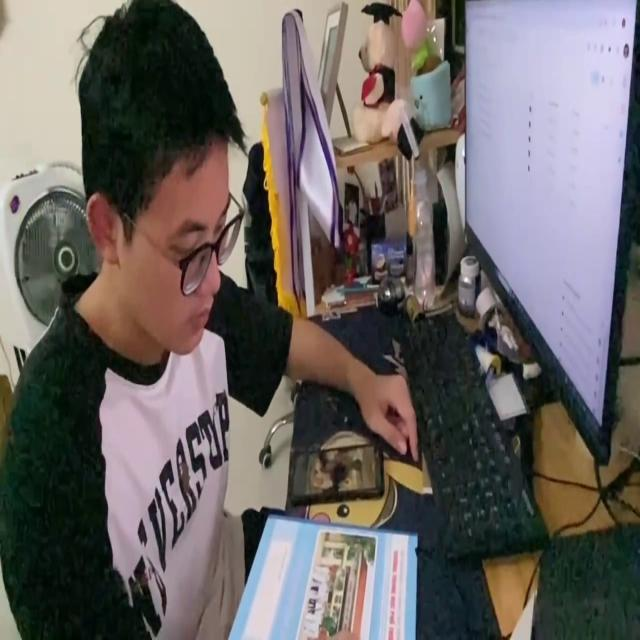book: (223, 506, 416, 640)
laptop: (462, 2, 640, 475)
phone: (286, 441, 382, 502)
student: (0, 0, 419, 640)
